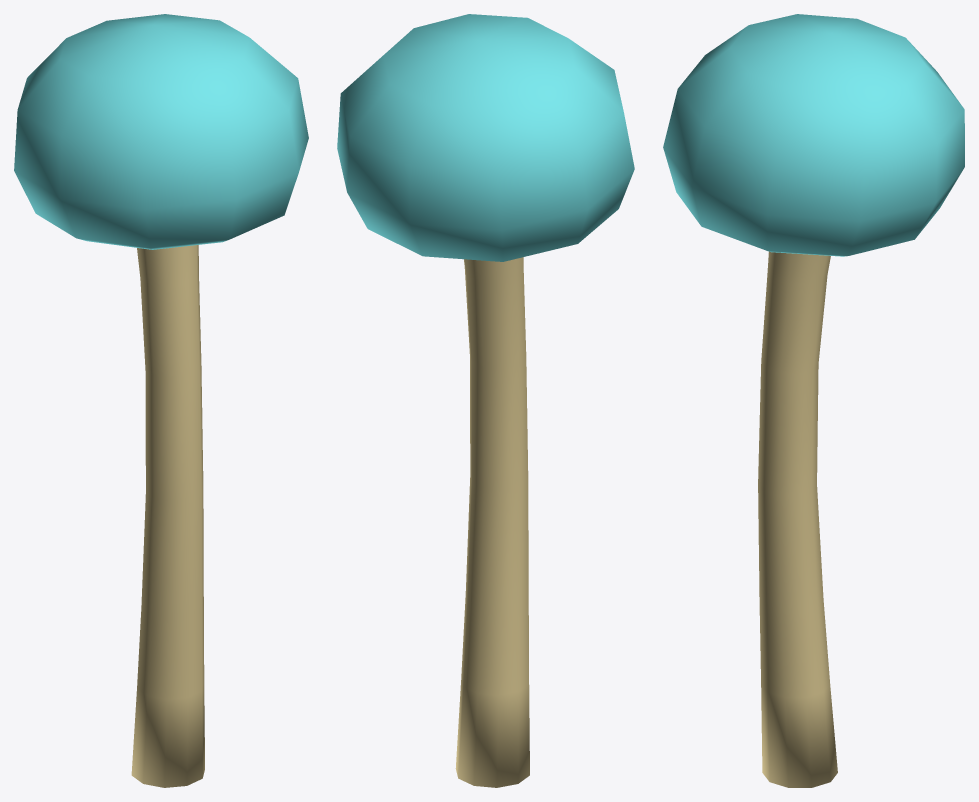
The model's file is Mushroom5_Bogdan.fbx.
3 renders of one model, left to right at view 1: azimuth 30°, elevation 25°; view 2: azimuth 150°, elevation 25°; view 3: azimuth 270°, elevation 25°, orthographic.
Parts seen in each view (by area): view 1: Mushroom5; view 2: Mushroom5; view 3: Mushroom5.
Part boxes in pixels (<box>): Mushroom5: <box>14,14,308,787</box>; Mushroom5: <box>337,14,634,787</box>; Mushroom5: <box>663,14,964,787</box>.
Bounding box in the file's own units: 82.09 × 232 × 85.95.
